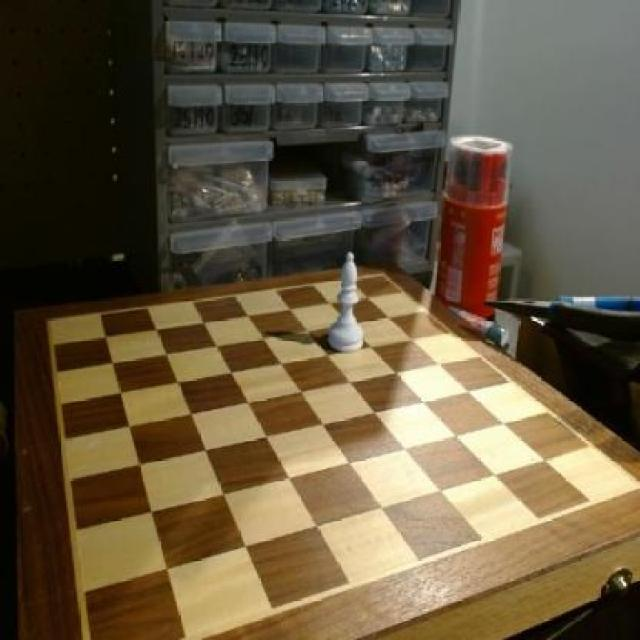black-rook: (321, 249, 367, 351)
